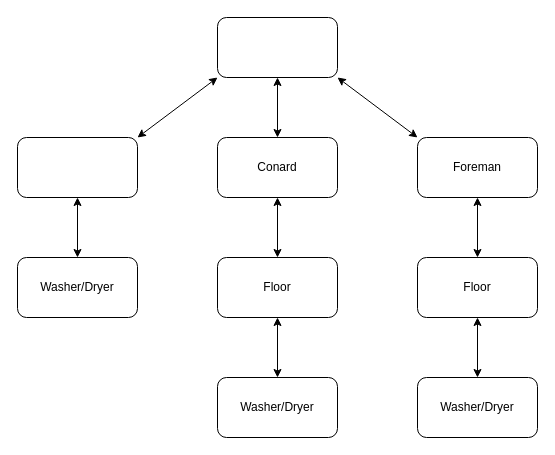
Image size: 555x455. Some labels were removed from this diagram. Here are the shapes that lost their labels. From the top down, the centre of each, then its label:
pixel 277 47: Home Screen
pixel 77 167: Sittner
